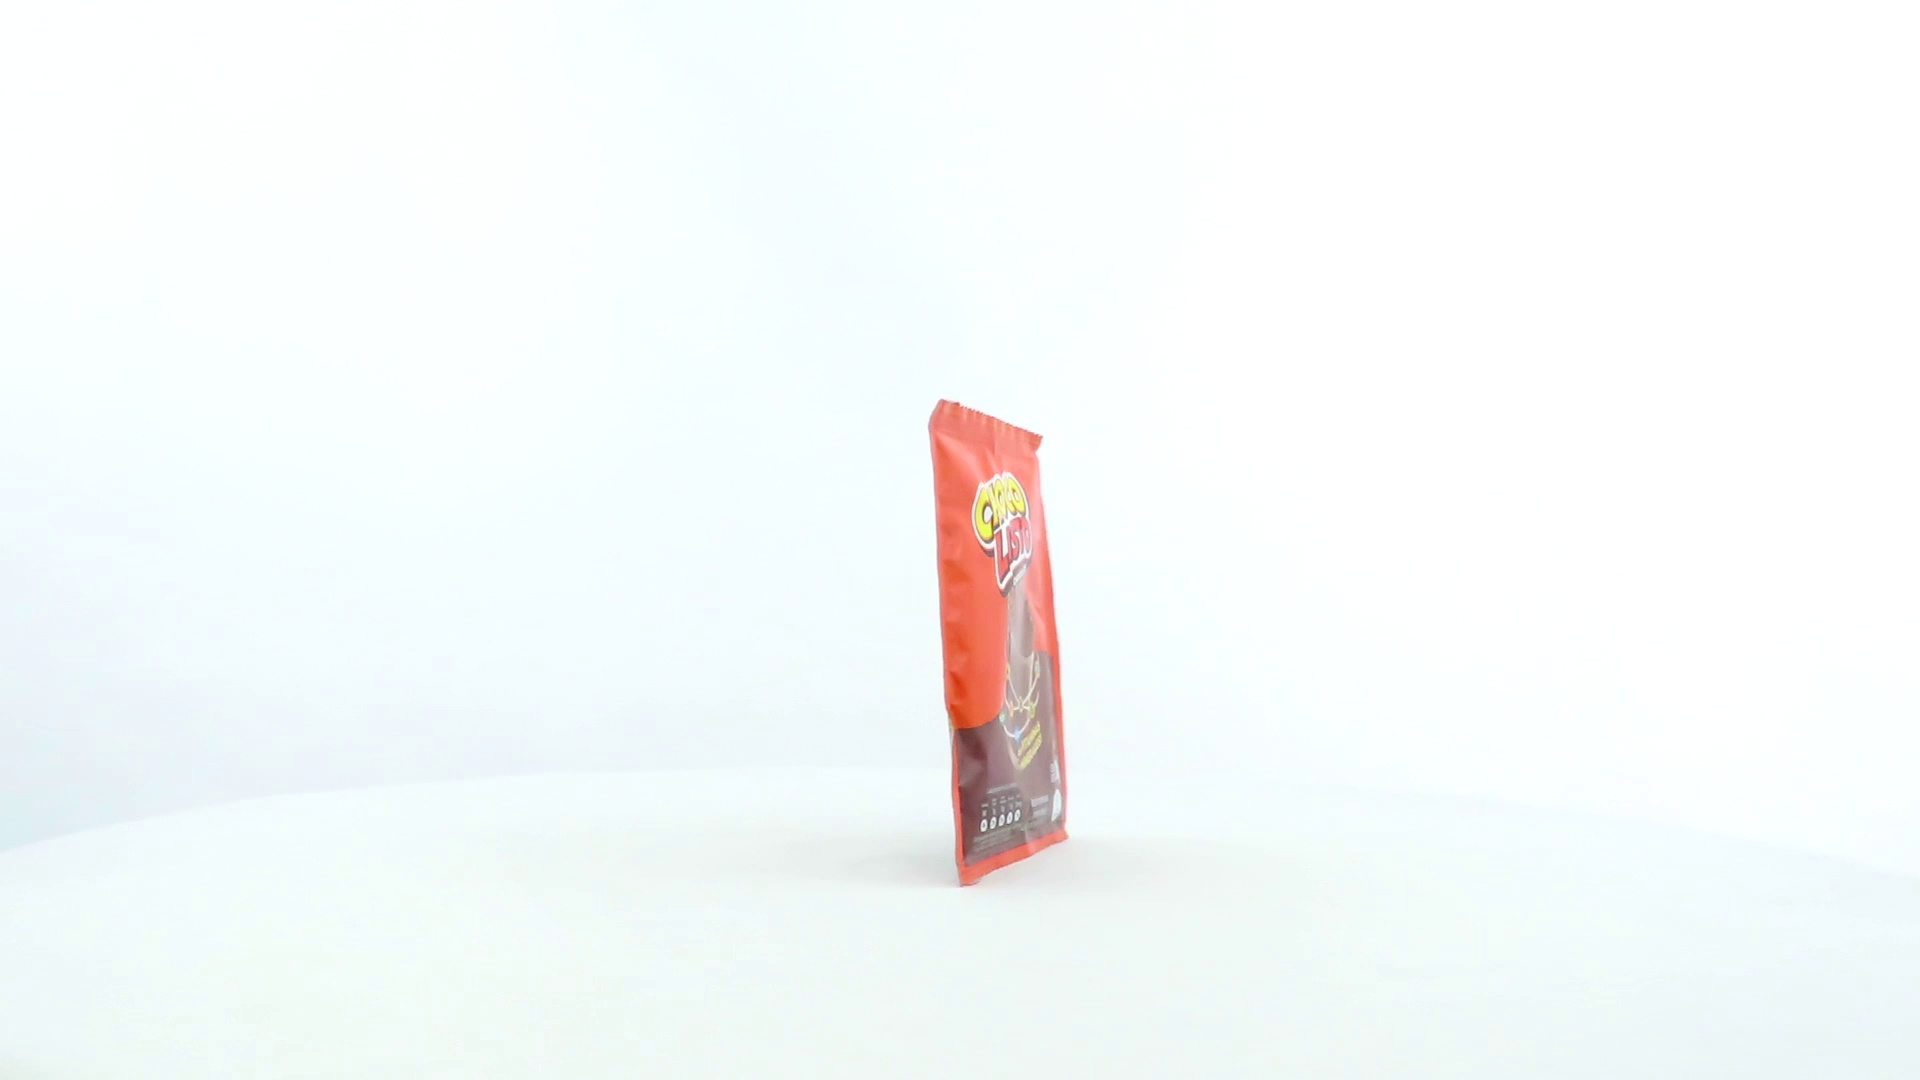COL0170103SOB02000: (923, 394, 1075, 894)
